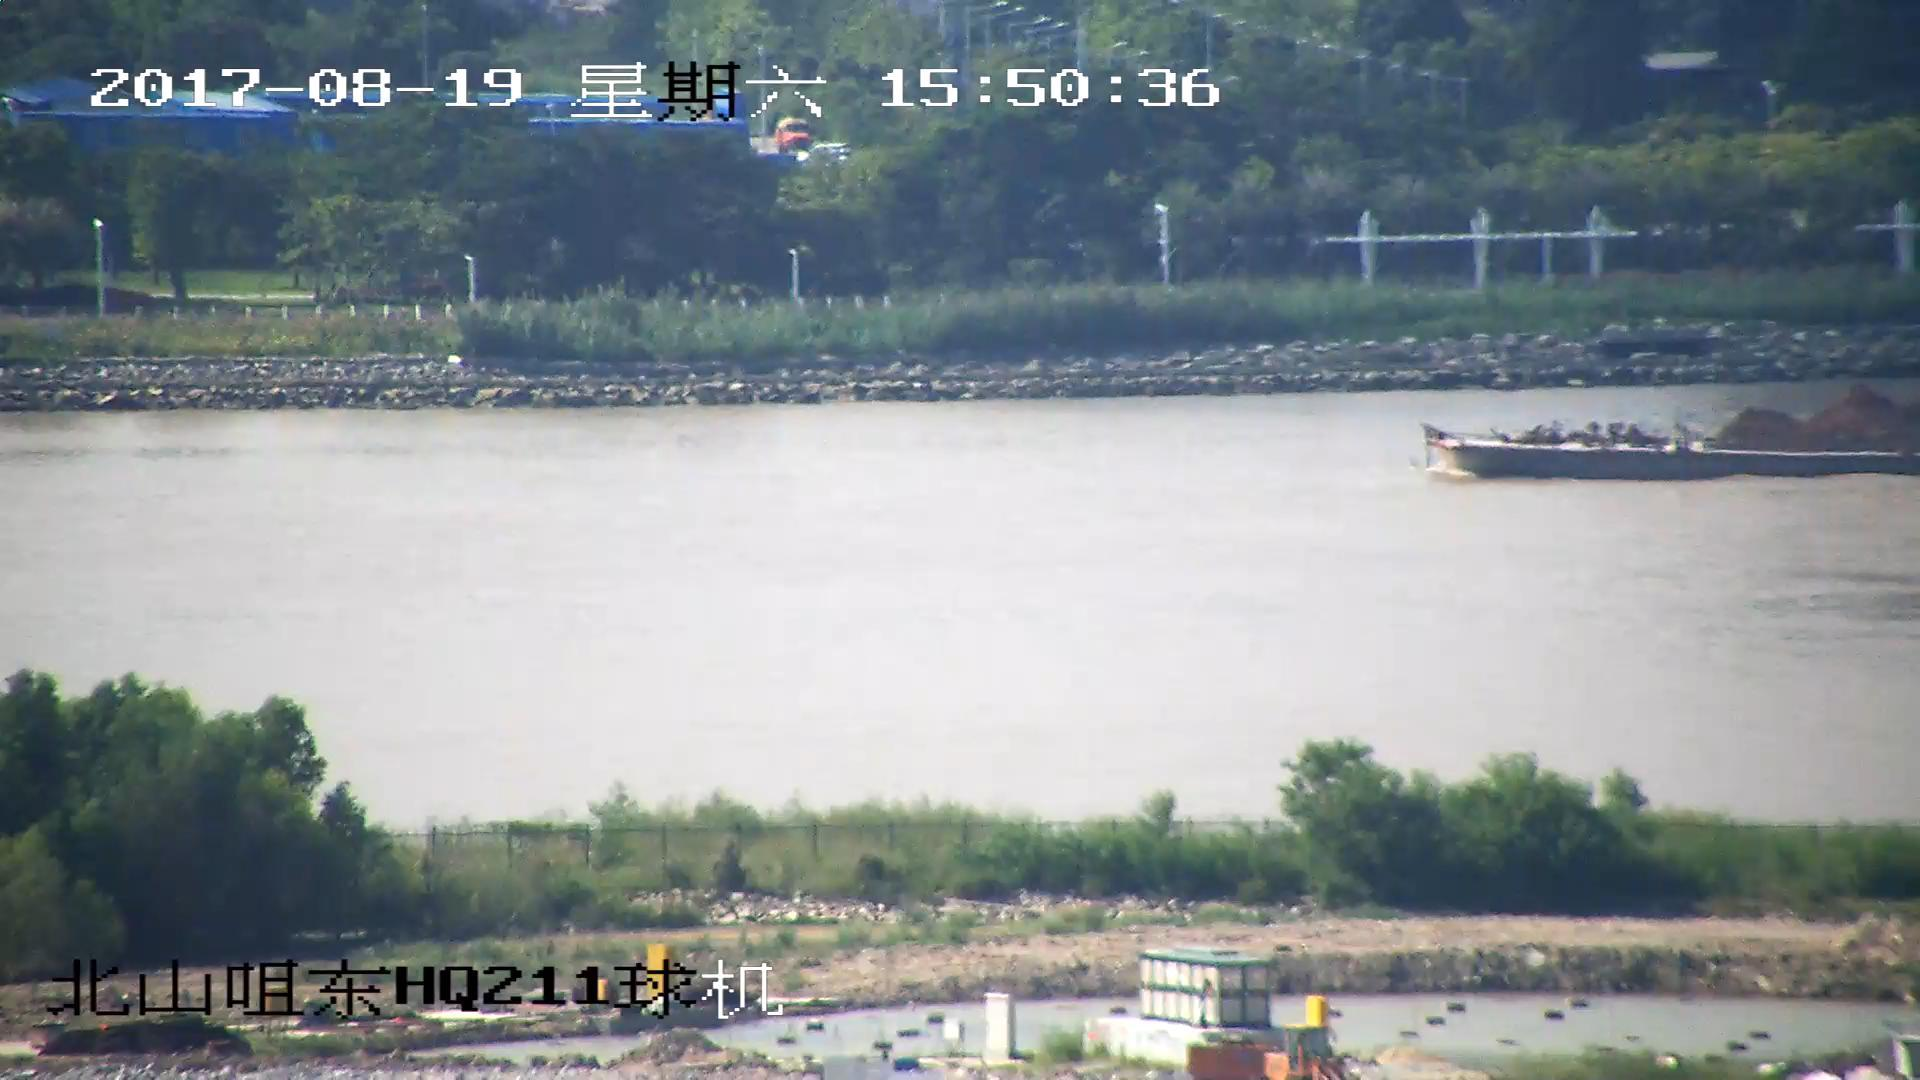Ship: (1420, 373, 1920, 480)
